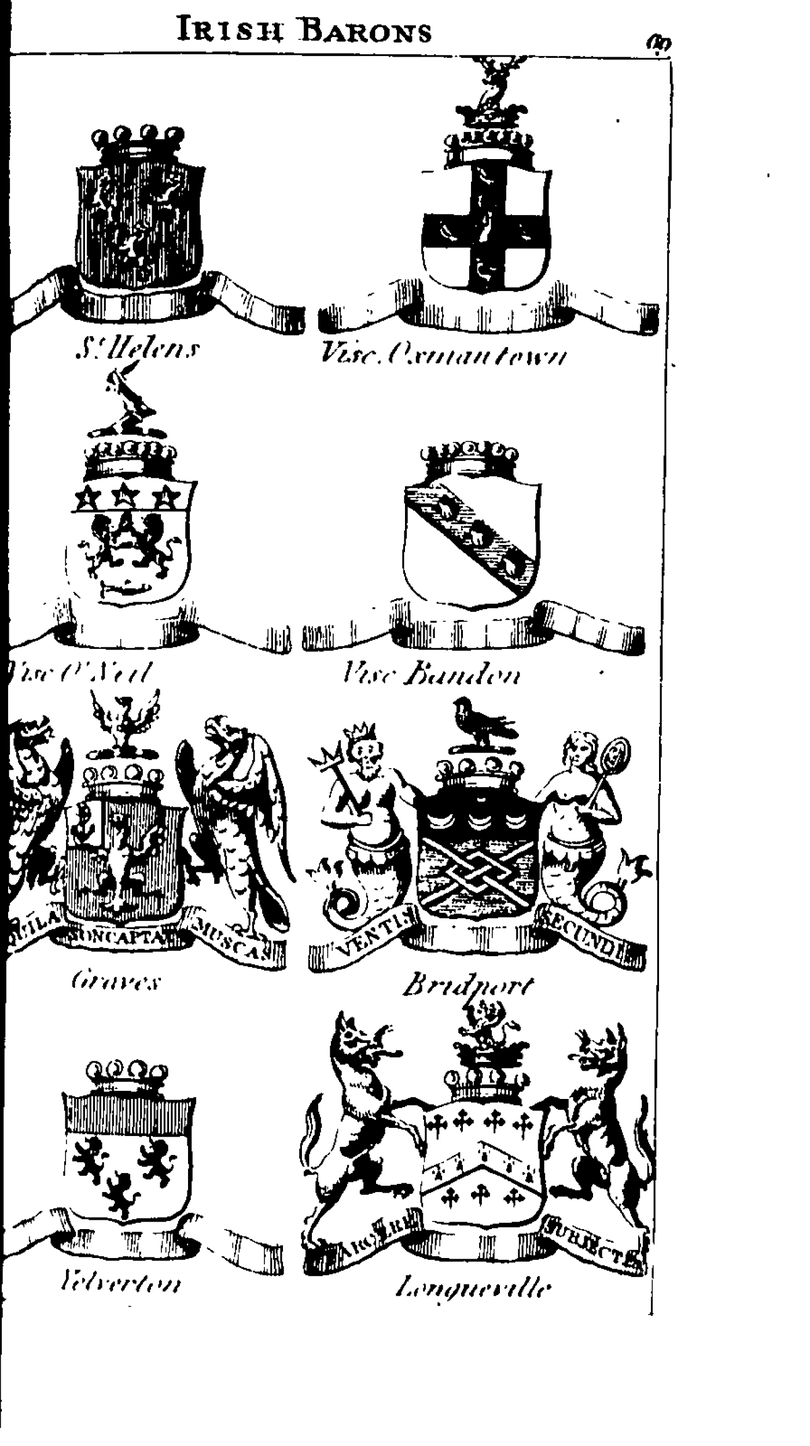coat_of_arms: (294, 996, 659, 1303), (323, 60, 662, 382), (303, 694, 651, 1004), (295, 428, 646, 709), (18, 362, 293, 701), (16, 96, 312, 391), (12, 689, 293, 998), (13, 1036, 290, 1300)
